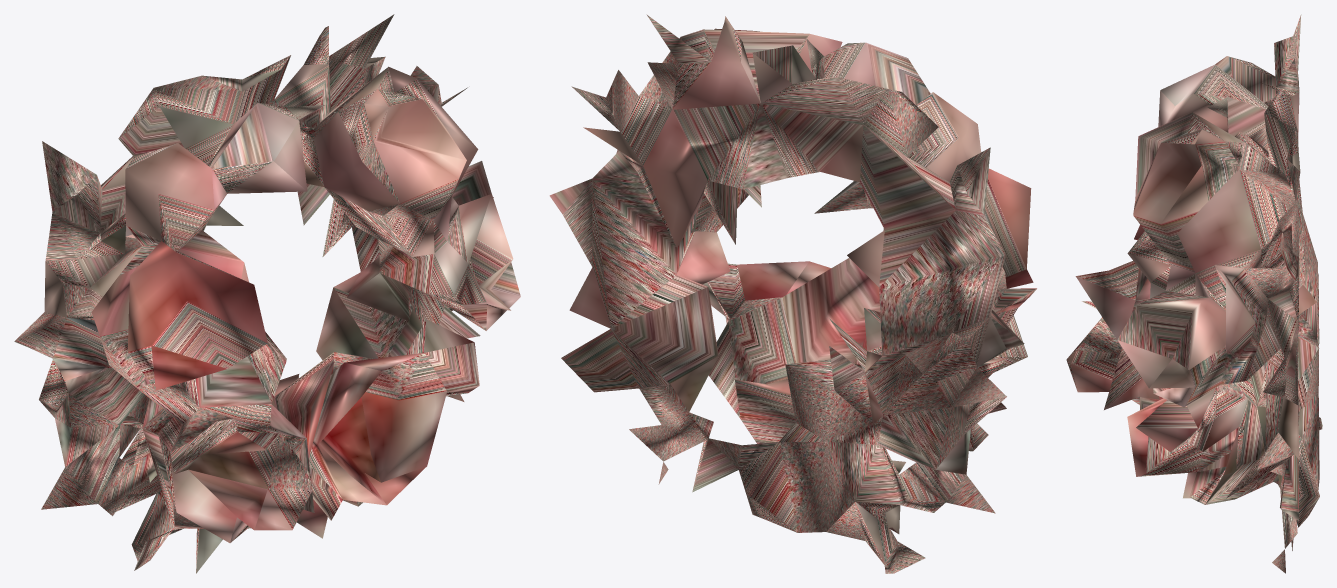
The picture shows the model from 3 angles, left to right: view 1: azimuth 30°, elevation 25°; view 2: azimuth 150°, elevation 25°; view 3: azimuth 270°, elevation 25°; orthographic projection. The views are drawn at different scales.
Visible parts, largest first — view 1: Rose-Frame-10-04; view 2: Rose-Frame-10-04; view 3: Rose-Frame-10-04.
Part boxes in pixels (x1,y1,x2,y2): Rose-Frame-10-04: (14,14,520,573); Rose-Frame-10-04: (549,14,1036,573); Rose-Frame-10-04: (1066,14,1322,573).
Bounding box in the file's own units: 0.2913 × 0.2951 × 0.1432.
Materials: 1 (1 with a texture image).
